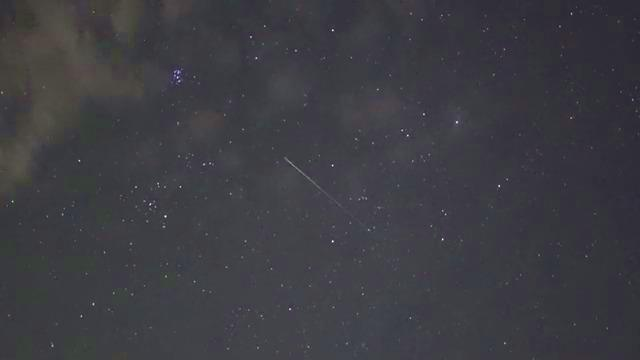meteorite: (278, 152, 360, 217)
